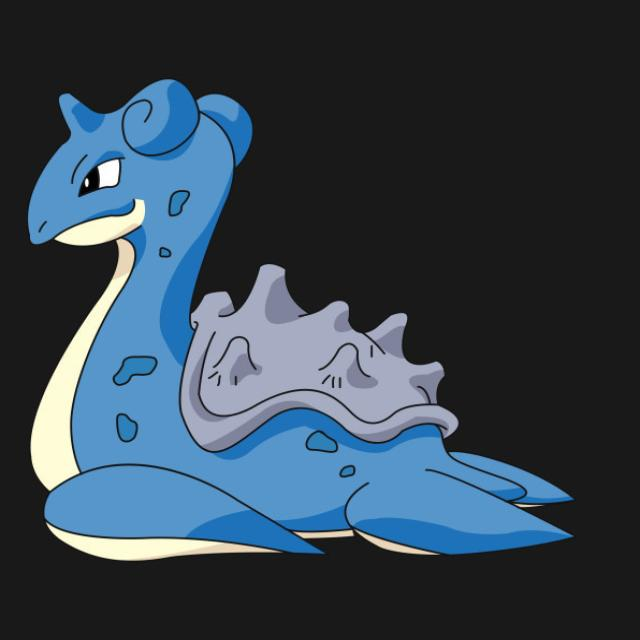Lapras: (9, 71, 583, 580)
